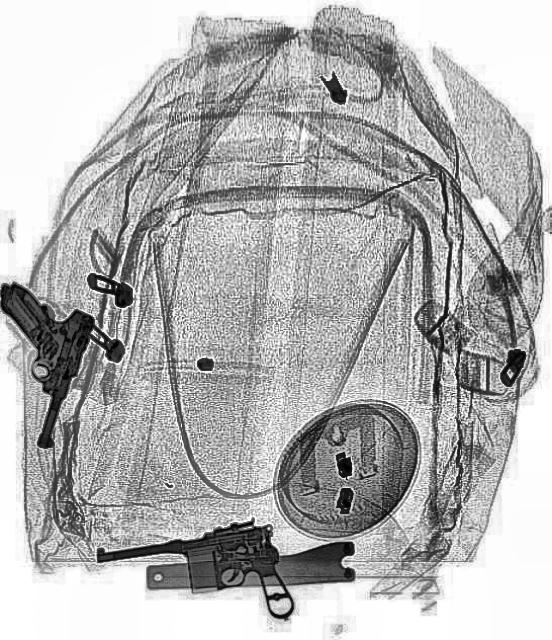Gun: (97, 514, 294, 638), (0, 280, 90, 450)
